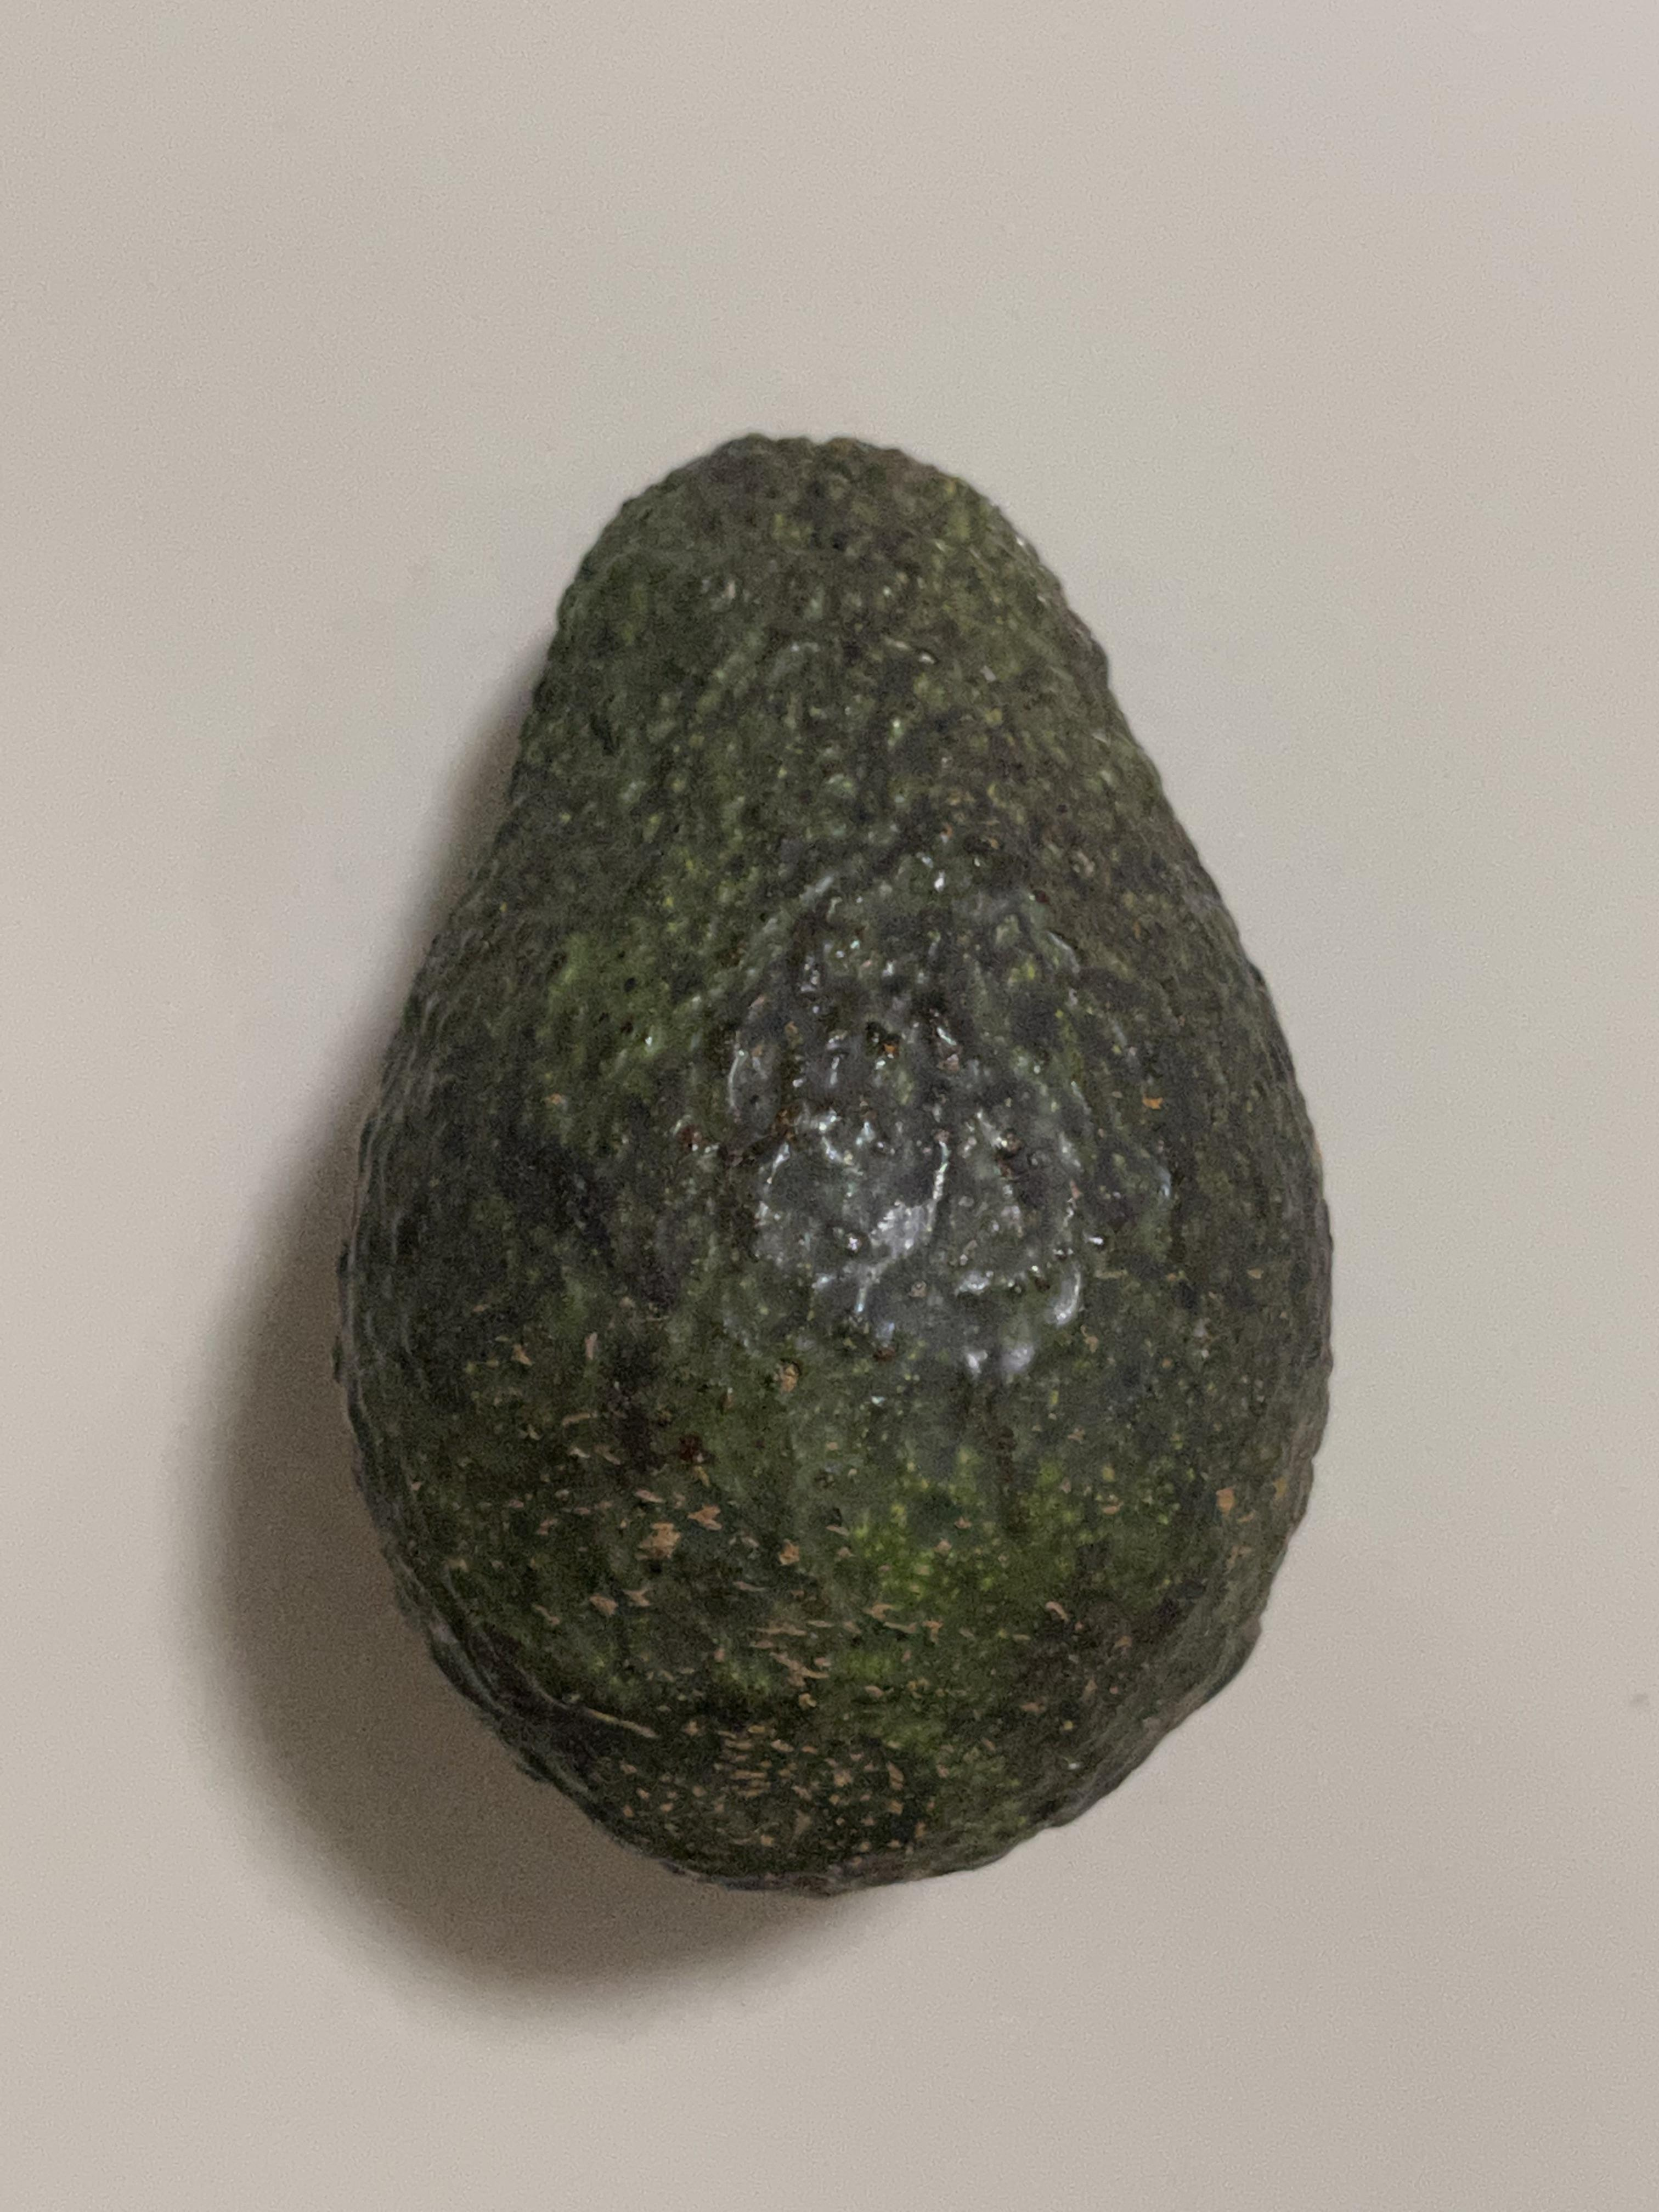Level1: (286, 362, 1439, 1940)
